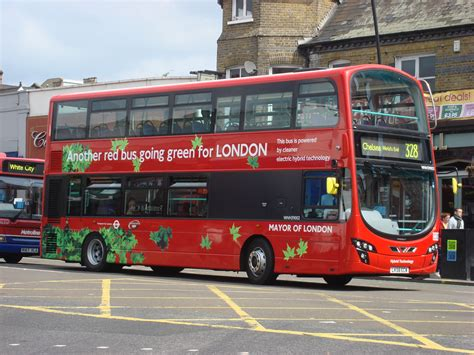bus: (41, 66, 439, 284), (1, 153, 42, 260)
